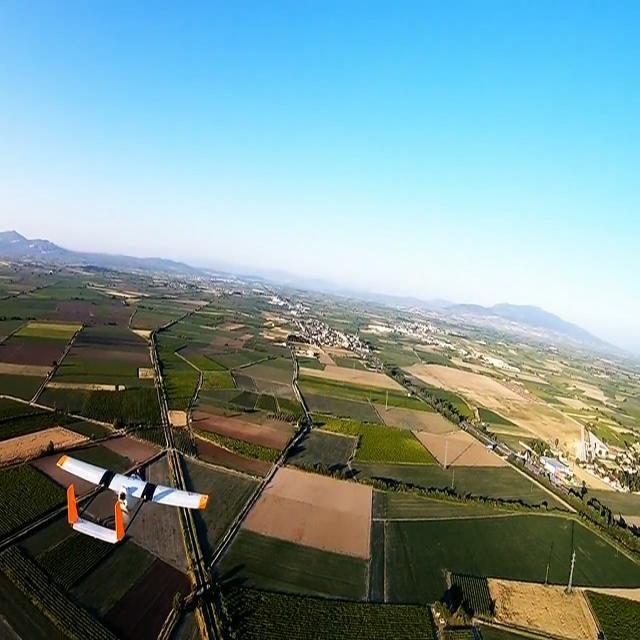iha: (46, 475, 216, 517)
